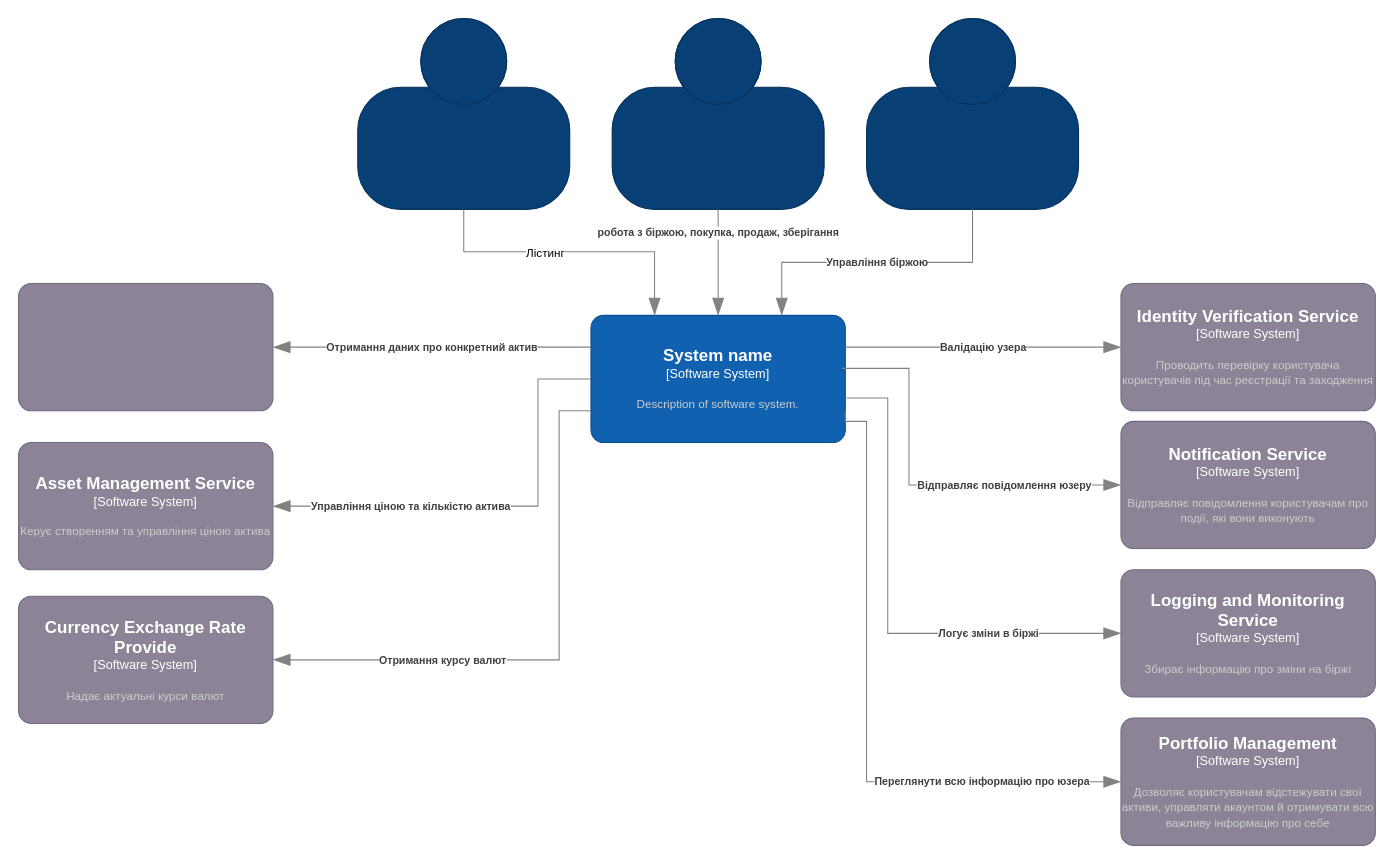
Image size: 1394x864. Some labels were removed from this diagram. Here are the shapes that lost their labels. From the top down, the centre of each, then its label:
At pixel 463 113: "Company [Person]".
At pixel 717 113: "Trader [Person]".
At pixel 972 113: "Admin [Person]".
At pixel 145 346: "Market Data Provider [Software System] Постачає дані про активи".
